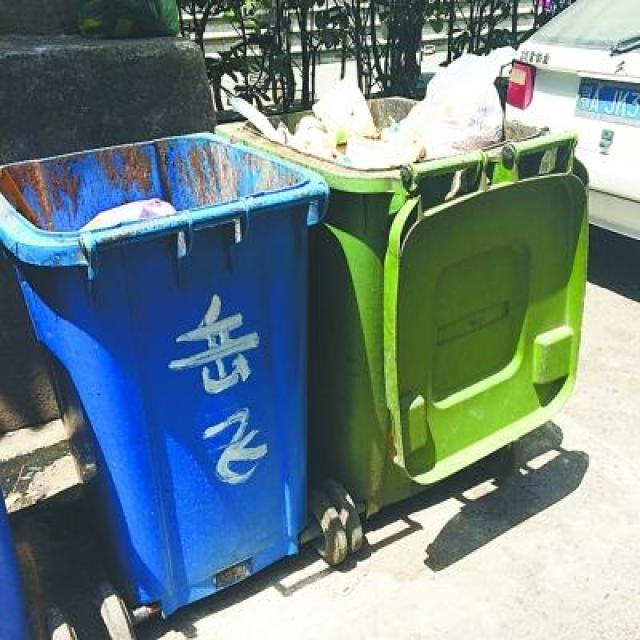garbage_bin: (0, 131, 328, 618)
overflow: (217, 48, 588, 512)
